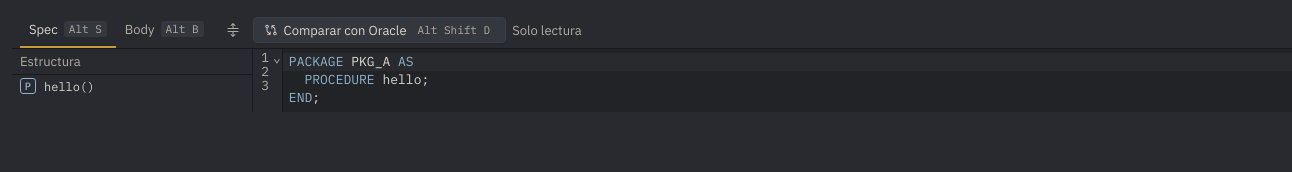
Test case: la comparación informa cuando el Body sigue ausente
Click the tab "Body Alt B". click: x=164, y=30
box: [116,12,213,48]
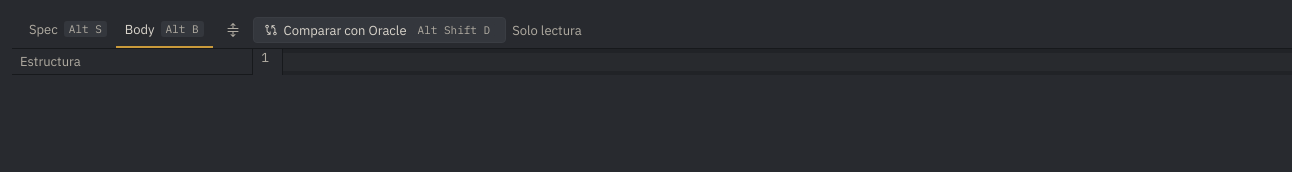
Click the button "Comparar con Oracle Alt Shift D". click: x=379, y=30
box: [253,17,506,43]
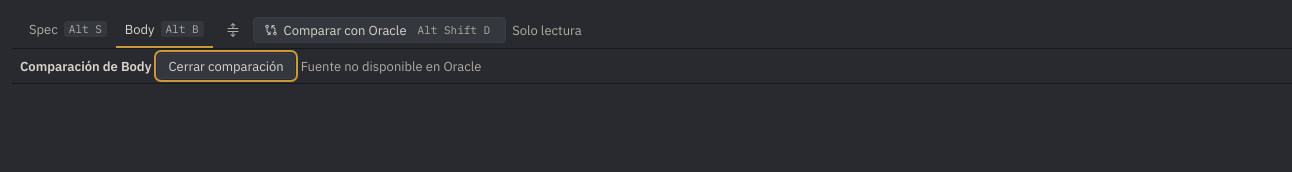
expect the text "Fuente no disponible en Oracle" is shown: met, box [301,58,481,74]
